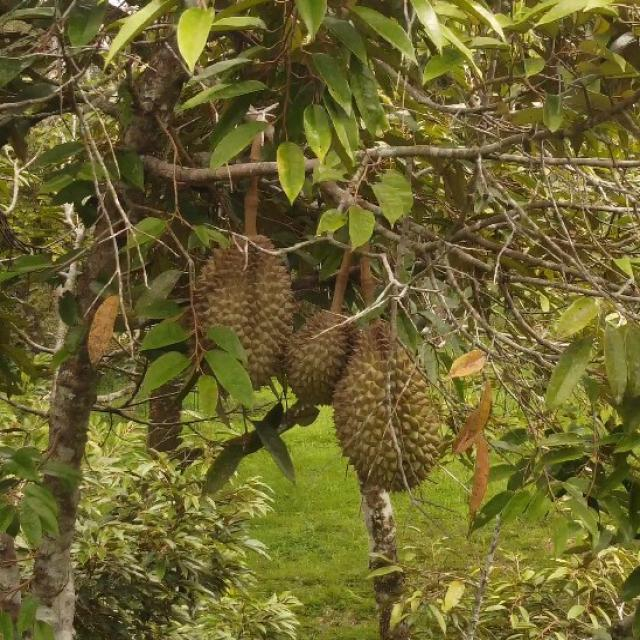mature: (335, 323, 442, 501), (193, 238, 288, 388), (282, 310, 361, 410)
